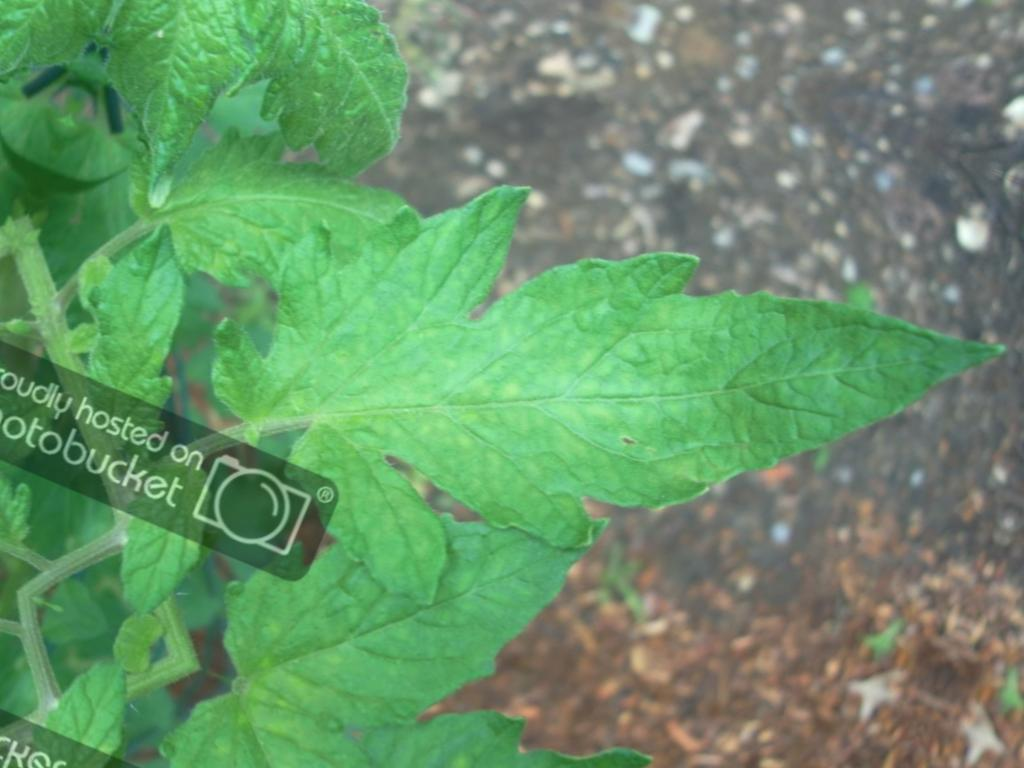Tomato mold leaf: (168, 58, 1020, 768)
